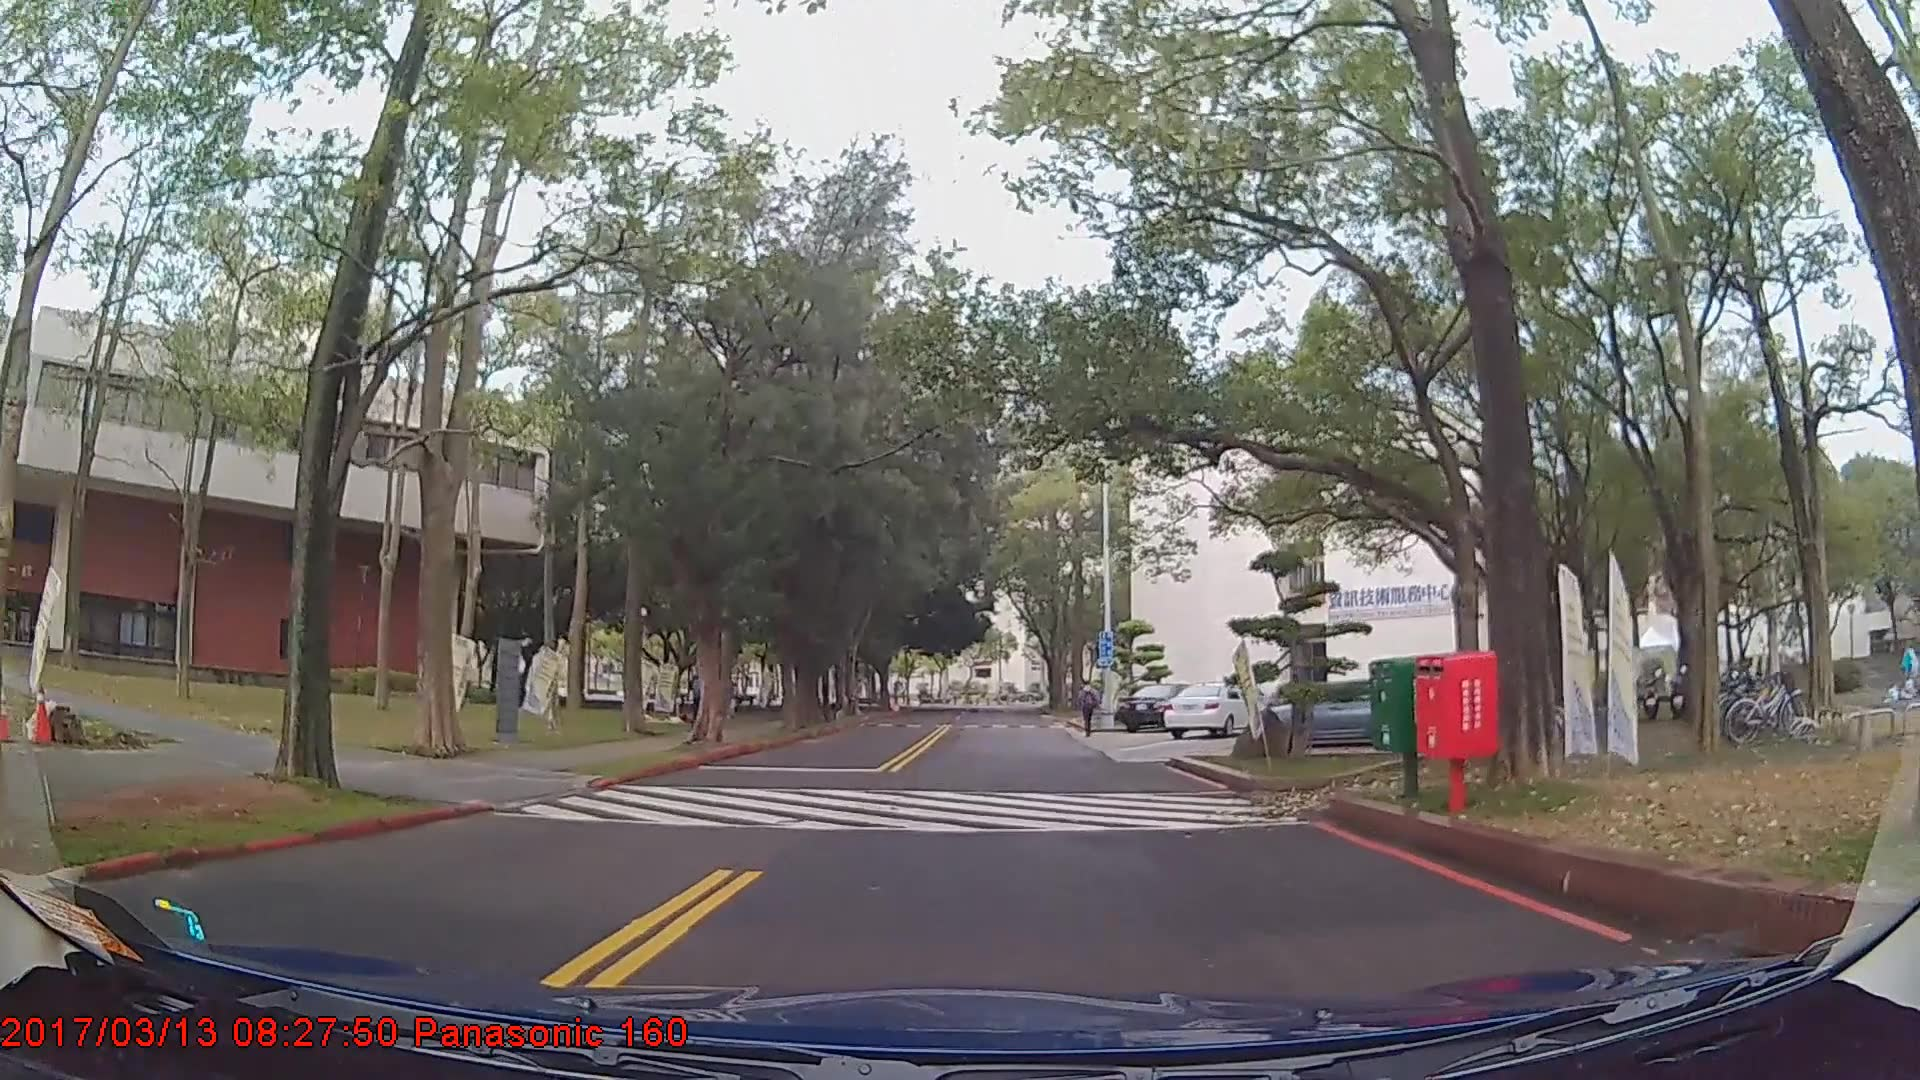pedestrian: (688, 670, 714, 743), (1075, 680, 1101, 742)
vehicle: (1166, 678, 1263, 736), (1114, 681, 1205, 732)
